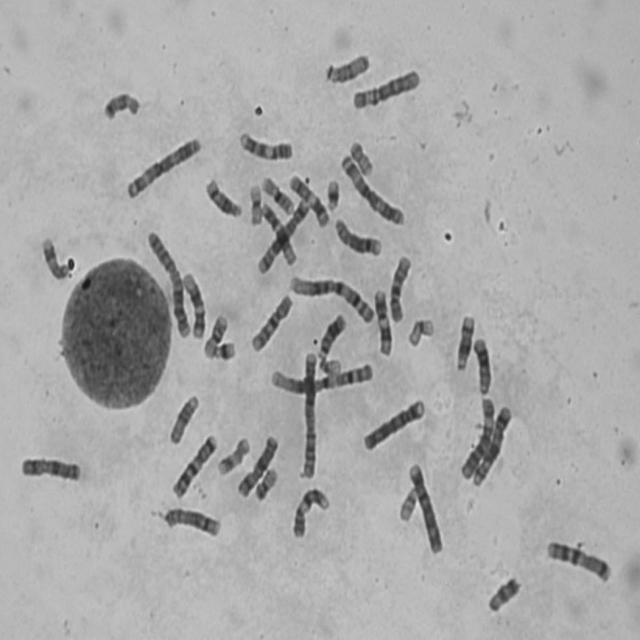A1: (288, 272, 377, 326), (264, 360, 376, 400)
A2: (145, 227, 192, 341), (300, 346, 320, 484)
A3: (124, 136, 205, 201), (338, 154, 407, 229)
B4: (362, 397, 428, 454), (408, 459, 445, 555)
B5: (256, 198, 310, 278), (472, 403, 513, 488)
C10: (248, 291, 294, 356), (388, 254, 415, 324)
C11: (288, 172, 332, 230), (372, 288, 394, 359)
C12: (259, 200, 299, 268), (178, 270, 208, 344)
C6: (352, 67, 422, 113), (459, 395, 496, 482)
C7: (540, 535, 614, 585), (172, 433, 220, 502)
C8: (333, 217, 385, 261), (163, 505, 225, 541)
C9: (290, 484, 332, 542), (233, 129, 297, 166)
D13: (316, 312, 349, 364), (471, 336, 493, 397)
D14: (204, 175, 244, 221), (454, 315, 477, 373)
D15: (168, 392, 202, 447), (325, 52, 370, 86)
E16: (260, 175, 296, 216), (202, 312, 229, 361)
E17: (38, 235, 73, 285), (216, 433, 251, 477)
E18: (103, 86, 144, 126), (487, 573, 525, 615)
F19: (406, 317, 435, 349), (247, 184, 264, 228)
F20: (347, 141, 375, 179), (254, 467, 281, 505)
G21: (213, 339, 237, 363), (326, 178, 340, 213)
G22: (397, 484, 418, 526), (318, 356, 342, 377)
X: (235, 432, 280, 501), (18, 450, 90, 487)
